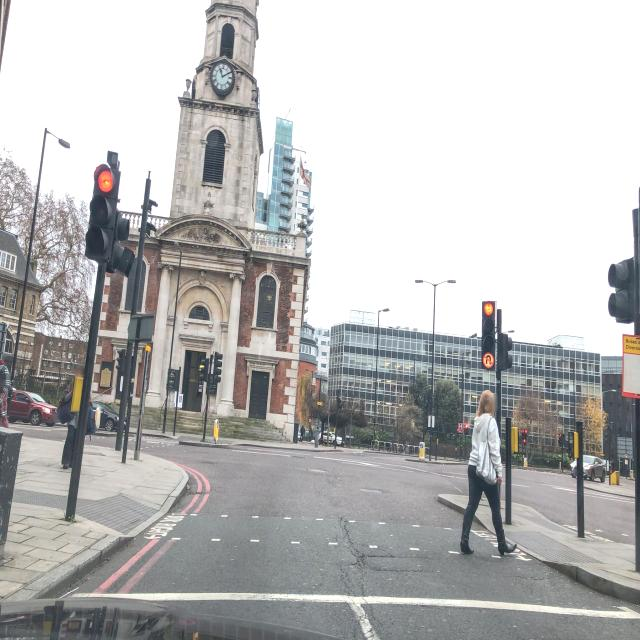car: (54, 392, 120, 430), (1, 390, 58, 426), (571, 453, 606, 481)
